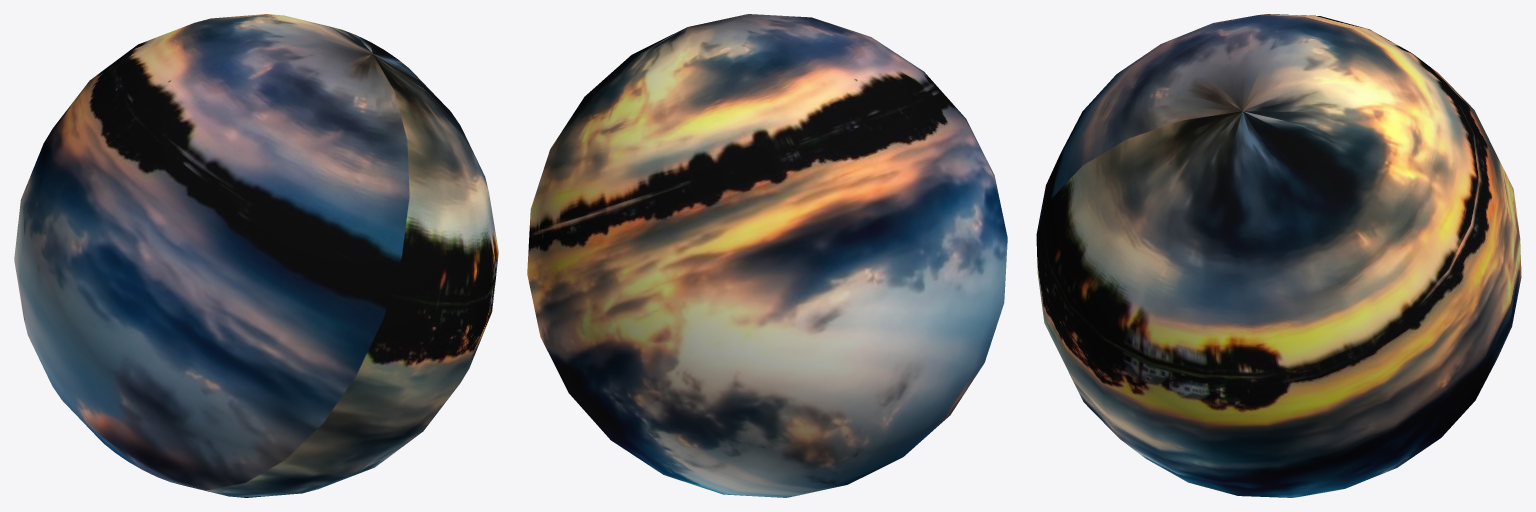
3 renders of one model, left to right at view 1: azimuth 30°, elevation 25°; view 2: azimuth 150°, elevation 25°; view 3: azimuth 270°, elevation 25°, orthographic.
Visible parts, largest first — view 1: Sphere; view 2: Sphere; view 3: Sphere.
Part boxes in pixels (<box>): Sphere: <box>14,14,498,497</box>; Sphere: <box>527,14,1007,497</box>; Sphere: <box>1036,14,1521,497</box>.
Bounding box in the file's own units: 199 × 200 × 199.
1 material, 1 textured.
